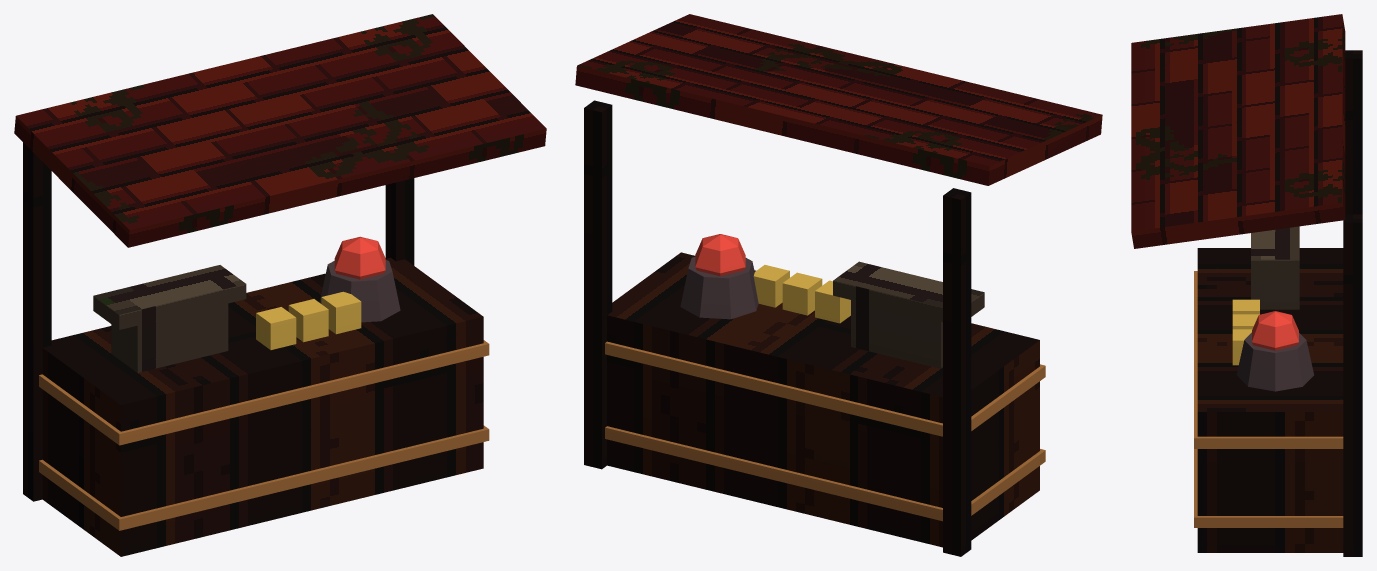
Rendered from dwarf_stall.glb.
3 views of the same model, side by side, from view 1: azimuth 30°, elevation 25°; view 2: azimuth 150°, elevation 25°; view 3: azimuth 270°, elevation 25° (orthographic). The views are drawn at different scales.
Visible parts, largest first — view 1: dwarf_stall; view 2: dwarf_stall; view 3: dwarf_stall.
Part boxes in pixels (x1,y1,x2,y2): dwarf_stall: [14, 14, 546, 556]; dwarf_stall: [575, 14, 1102, 556]; dwarf_stall: [1131, 14, 1362, 556].
Bounding box in the file's own units: 2.3 × 2.06 × 1.19.
5 materials, 3 textured.
